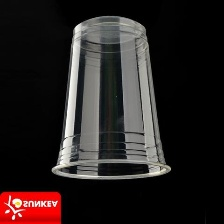glass: (48, 10, 178, 182)
